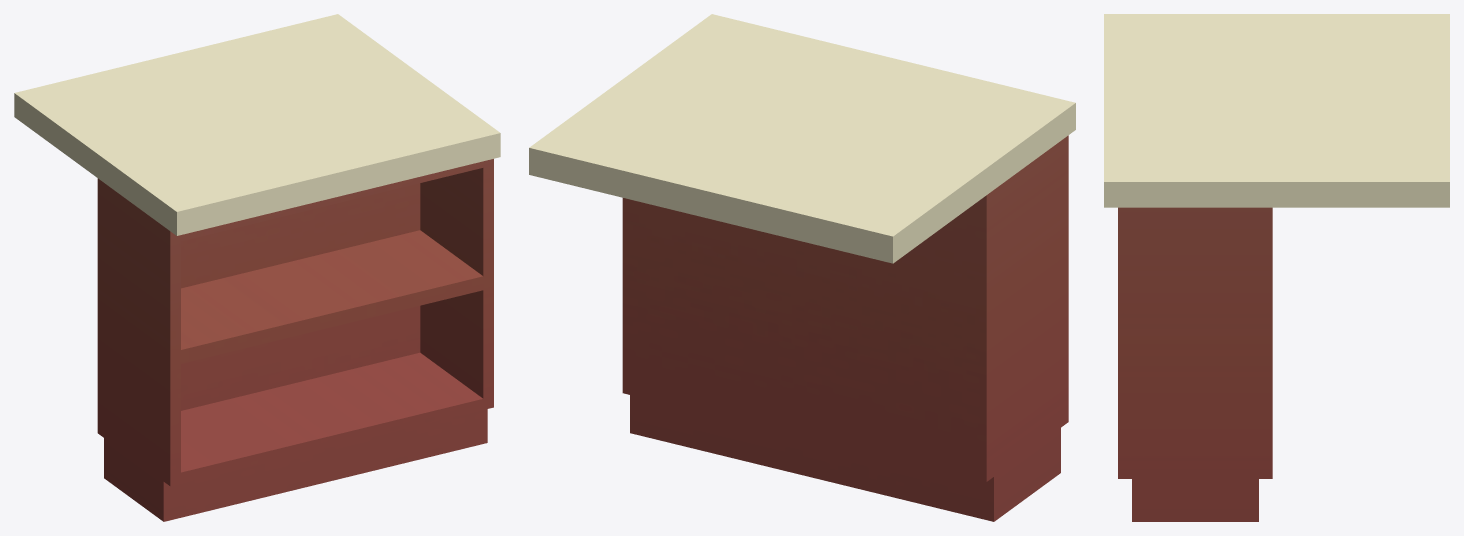
File: SM_Cabinet_Island_4_04.fbx
The picture shows the model from 3 angles, left to right: view 1: azimuth 30°, elevation 25°; view 2: azimuth 150°, elevation 25°; view 3: azimuth 270°, elevation 25°; orthographic projection. The views are drawn at different scales.
Visible parts, largest first — view 1: SM_Cabinet_Island_4_04; view 2: SM_Cabinet_Island_4_04; view 3: SM_Cabinet_Island_4_04.
Boxes of the visible parts, left/top/right/bottom form: SM_Cabinet_Island_4_04: left=14, top=14, right=500, bottom=521; SM_Cabinet_Island_4_04: left=529, top=14, right=1075, bottom=521; SM_Cabinet_Island_4_04: left=1104, top=14, right=1449, bottom=521.
Size of the model in its own units: 114 by 108 by 99.28.
